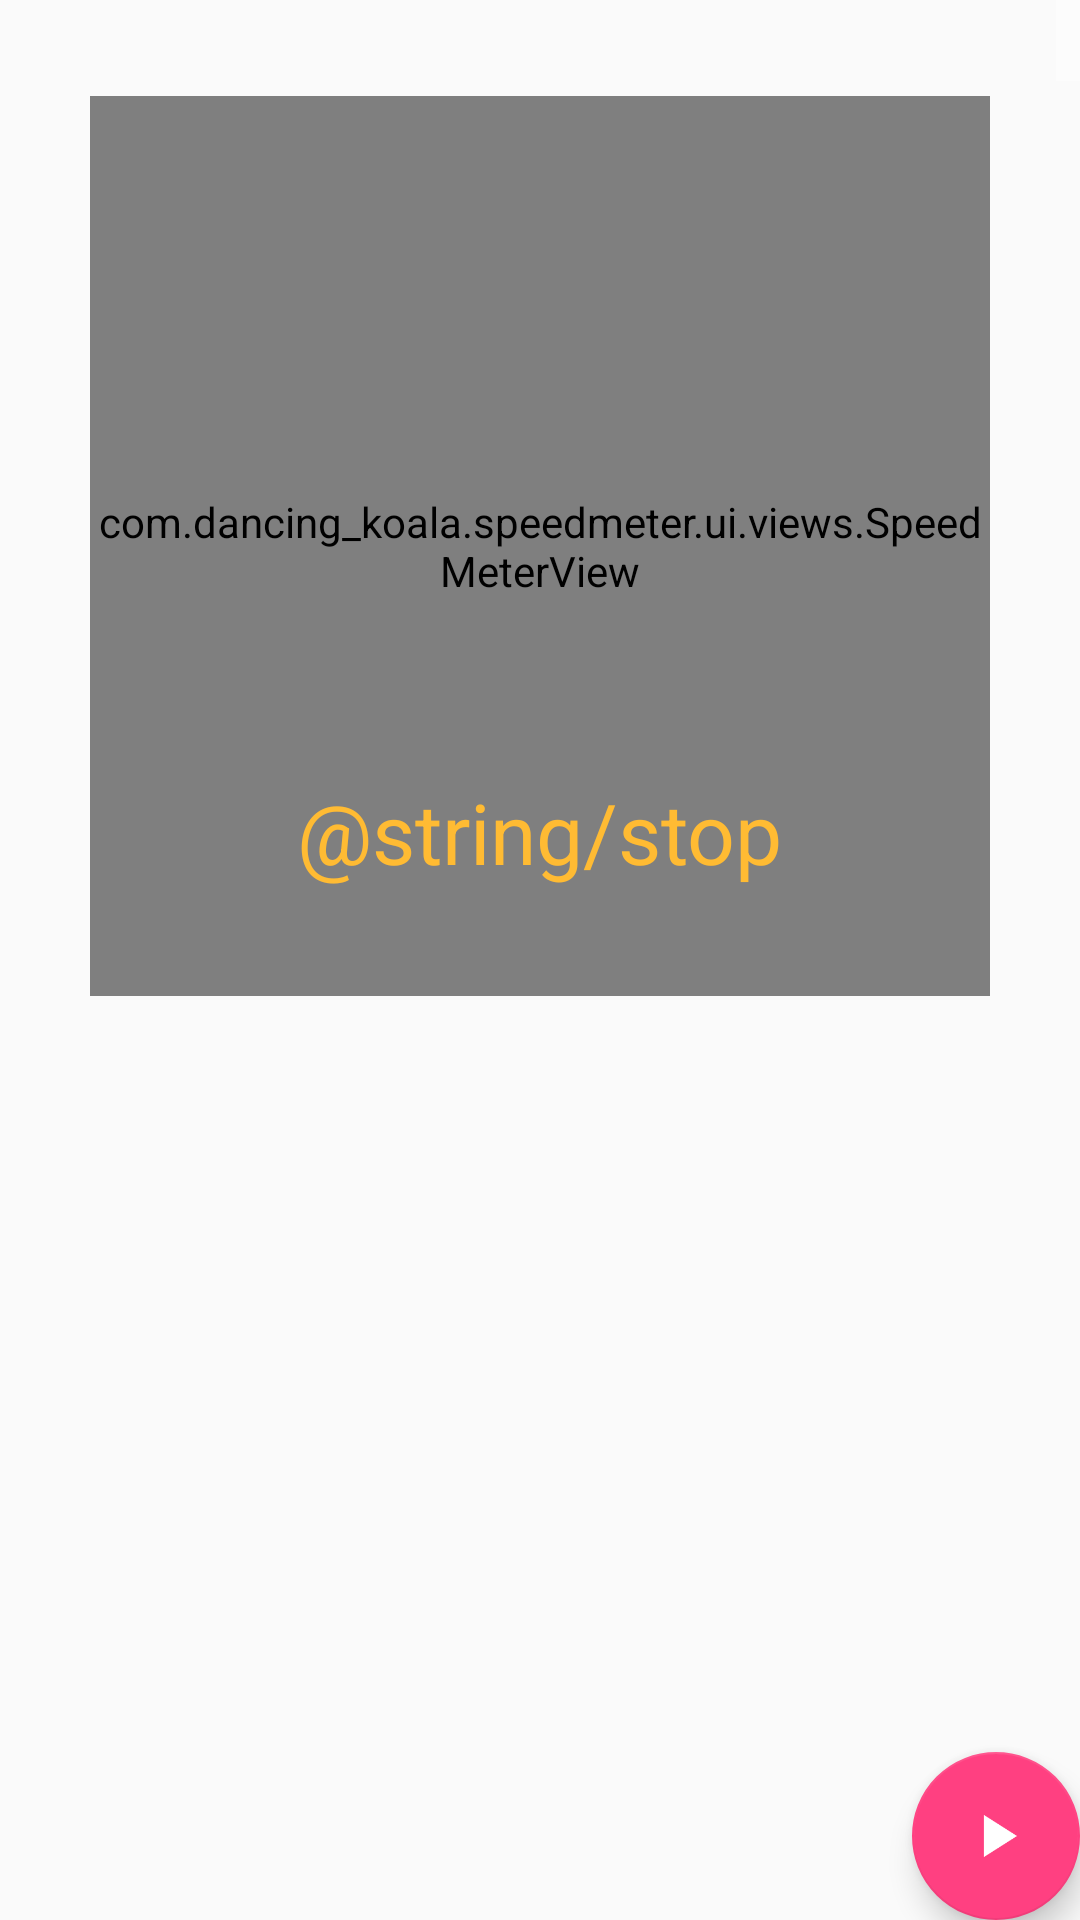

Icon click points for this 1080x1920 phone screenshot, format [x,y]:
play: [996,1836]
